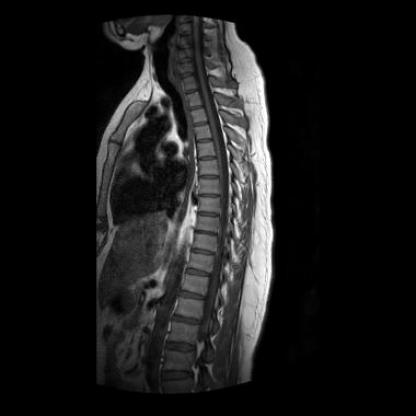Demyelinating Plaquesrotation: (198, 210, 219, 222), (195, 137, 216, 147)
Hemangiomatarotation: (188, 253, 213, 272), (193, 124, 212, 138)
